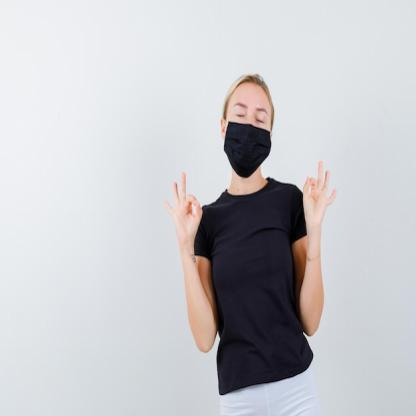ok: (160, 169, 206, 252), (298, 155, 338, 235)
